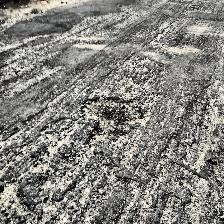pothole: (80, 94, 144, 146)
